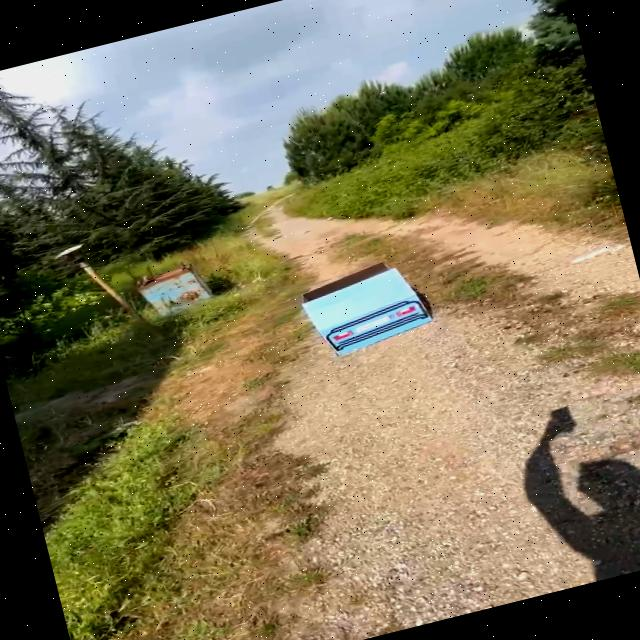blue_car: (282, 248, 451, 368)
